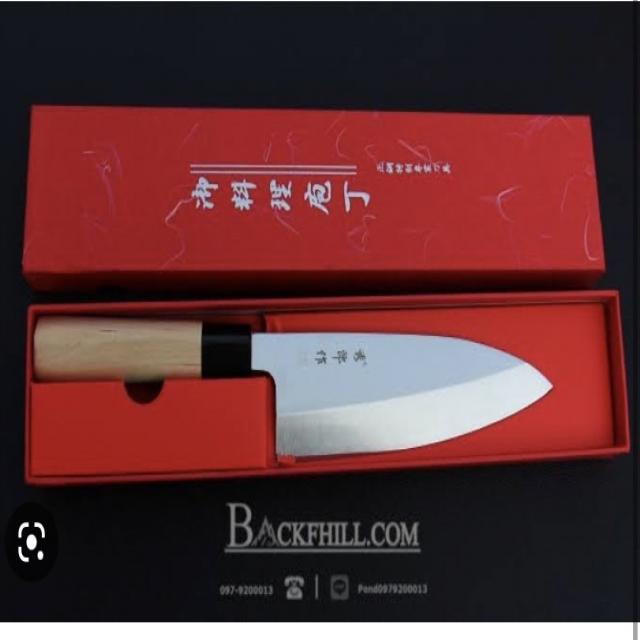Knife: (26, 305, 574, 476)
